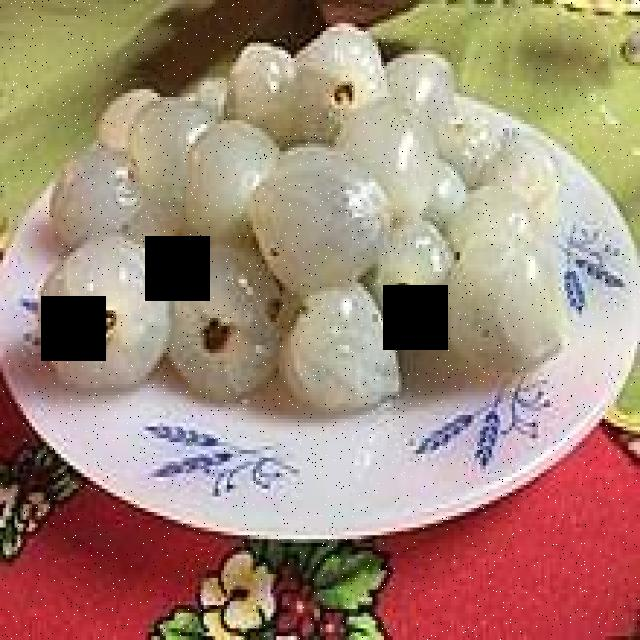lychee: (43, 24, 564, 418)
